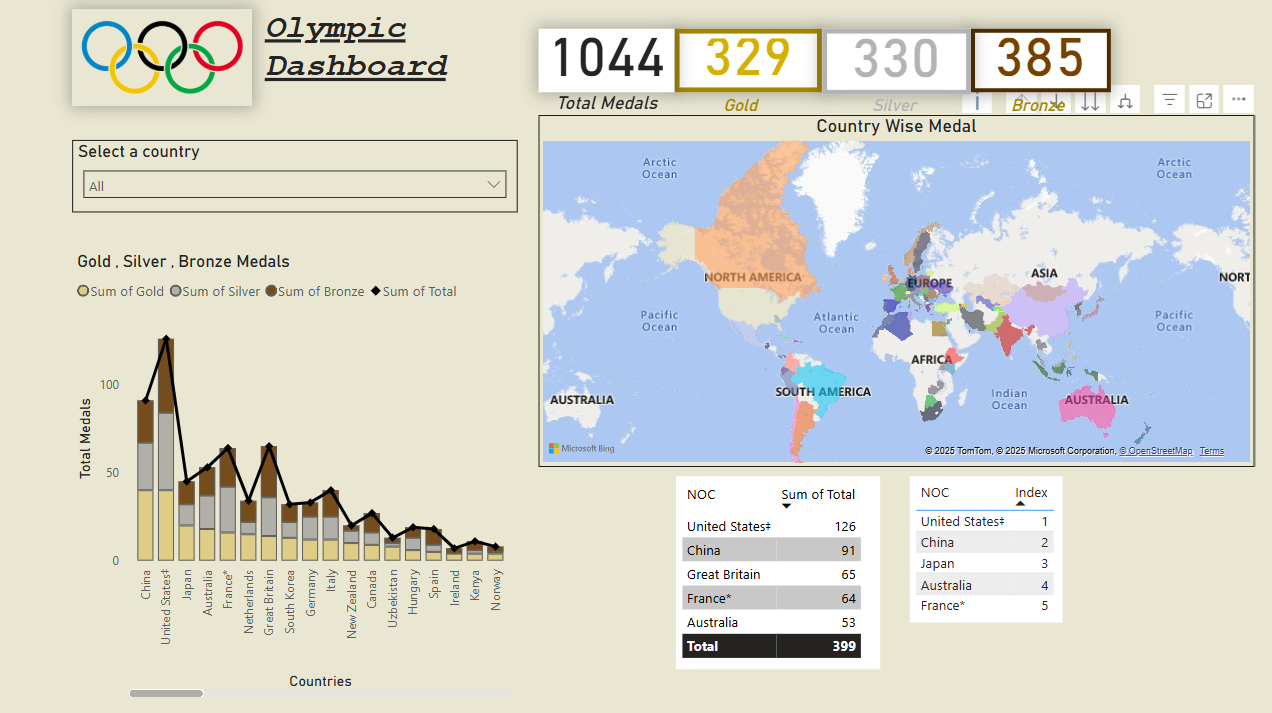

What the dashboard file says about the page in this screenshot:
{"tool":"powerbi","page":{"name":"Olympic Dashboard","canvas":[1280,720],"ordinal":0},"visuals":[{"type":"image","box":[75.9,13.7,179.1,97],"z":0},{"type":"filledMap","title":"Country Wise Medal","fields":{"Category":["2024 Summer Olympics medal table[34][B][C].NOC","2024 Summer Olympics medal table[34][B][C].Total"],"Series":["2024 Summer Olympics medal table[34][B][C].NOC"]},"box":[539.8,119.3,712.5,351.1],"z":1000},{"type":"card","fields":{"Values":["Sum(2024 Summer Olympics medal table[34][B][C].Bronze)"]},"box":[970.3,33.6,139.3,63.4],"z":2000},{"type":"card","fields":{"Values":["Sum(2024 Summer Olympics medal table[34][B][C].Gold)"]},"box":[675.5,33.6,146.8,63.4],"z":3000},{"type":"card","fields":{"Values":["Sum(2024 Summer Olympics medal table[34][B][C].Silver)"]},"box":[822.3,33.6,148,65.9],"z":4000},{"type":"slicer","title":"Select a country ","fields":{"Values":["2024 Summer Olympics medal table[34][B][C].NOC"]},"box":[75.9,144.3,442.8,72.1],"z":5000},{"type":"card","fields":{"Values":["Sum(2024 Summer Olympics medal table[34][B][C].Total)"]},"box":[539.9,33.6,135.6,63.4],"z":6000},{"type":"shape","title":"Total Medals","box":[539.9,97,135.6,22.4],"z":7000},{"type":"shape","title":"Gold","box":[724,99.5,48.5,18.7],"z":8000},{"type":"shape","title":"Silver","box":[872,99.5,52.2,18.7],"z":9000},{"type":"shape","title":"Bronze","box":[1010.1,99.5,59.7,19.9],"z":10000},{"type":"shape","title":"Olympic Dashboard","box":[267.5,13.7,194.1,72.1],"z":11000},{"type":"lineStackedColumnComboChart","title":"Gold , Silver , Bronze Medals","fields":{"Category":["2024 Summer Olympics medal table[34][B][C].NOC"],"Y":["Sum(2024 Summer Olympics medal table[34][B][C].Gold)","Sum(2024 Summer Olympics medal table[34][B][C].Silver)","Sum(2024 Summer Olympics medal table[34][B][C].Bronze)"],"Y2":["Sum(2024 Summer Olympics medal table[34][B][C].Total)"]},"box":[75.9,255,442.8,449.1],"z":12000},{"type":"tableEx","fields":{"Values":["2024 Summer Olympics medal table[34][B][C].NOC","Sum(2024 Summer Olympics medal table[34][B][C].Total)"]},"box":[676.1,479.5,203.4,192],"z":12001},{"type":"tableEx","fields":{"Values":["2024 Summer Olympics medal table[34][B][C].NOC","2024 Summer Olympics medal table[34][B][C].Index"]},"box":[909.1,479.5,152.3,145.5],"z":12002}]}

Visuals, with their boxes in screenshot pixels (x1, y1, x2, y2), scaled from the page's 1280x720 canvas onto the 1272x713 screenshot:
image: <bbox>75, 14, 253, 110</bbox>
"Country Wise Medal" filledMap: <bbox>536, 118, 1244, 466</bbox>
card - Sum(2024 Summer Olympics medal table[34][B][C].Bronze): <bbox>964, 33, 1103, 96</bbox>
card - Sum(2024 Summer Olympics medal table[34][B][C].Gold): <bbox>671, 33, 817, 96</bbox>
card - Sum(2024 Summer Olympics medal table[34][B][C].Silver): <bbox>817, 33, 964, 99</bbox>
"Select a country " slicer: <bbox>75, 143, 515, 214</bbox>
card - Sum(2024 Summer Olympics medal table[34][B][C].Total): <bbox>537, 33, 671, 96</bbox>
"Total Medals" shape: <bbox>537, 96, 671, 118</bbox>
"Gold" shape: <bbox>719, 99, 768, 117</bbox>
"Silver" shape: <bbox>867, 99, 918, 117</bbox>
"Bronze" shape: <bbox>1004, 99, 1063, 118</bbox>
"Olympic Dashboard" shape: <bbox>266, 14, 459, 85</bbox>
"Gold , Silver , Bronze Medals" lineStackedColumnComboChart: <bbox>75, 253, 515, 697</bbox>
tableEx - 2024 Summer Olympics medal table[34][B][C].NOC x Sum(2024 Summer Olympics medal table[34][B][C].Total): <bbox>672, 475, 874, 665</bbox>
tableEx - 2024 Summer Olympics medal table[34][B][C].NOC x 2024 Summer Olympics medal table[34][B][C].Index: <bbox>903, 475, 1055, 619</bbox>
